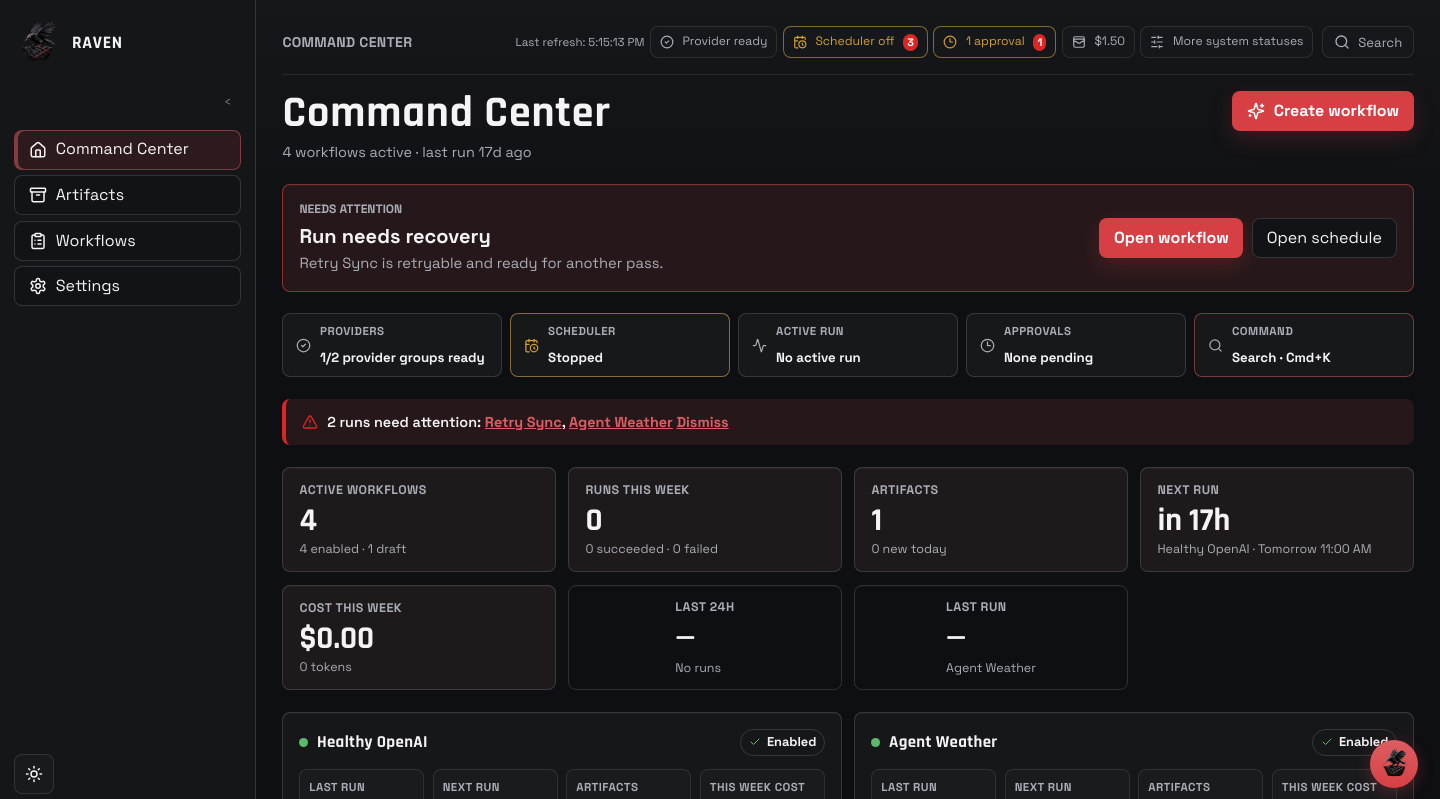
Raven app shell › opens provider status details before navigating to provider settings
The image size is (1440, 799).
Click the button with aria-label "provider status" at (714, 42), box [650,26,777,58]
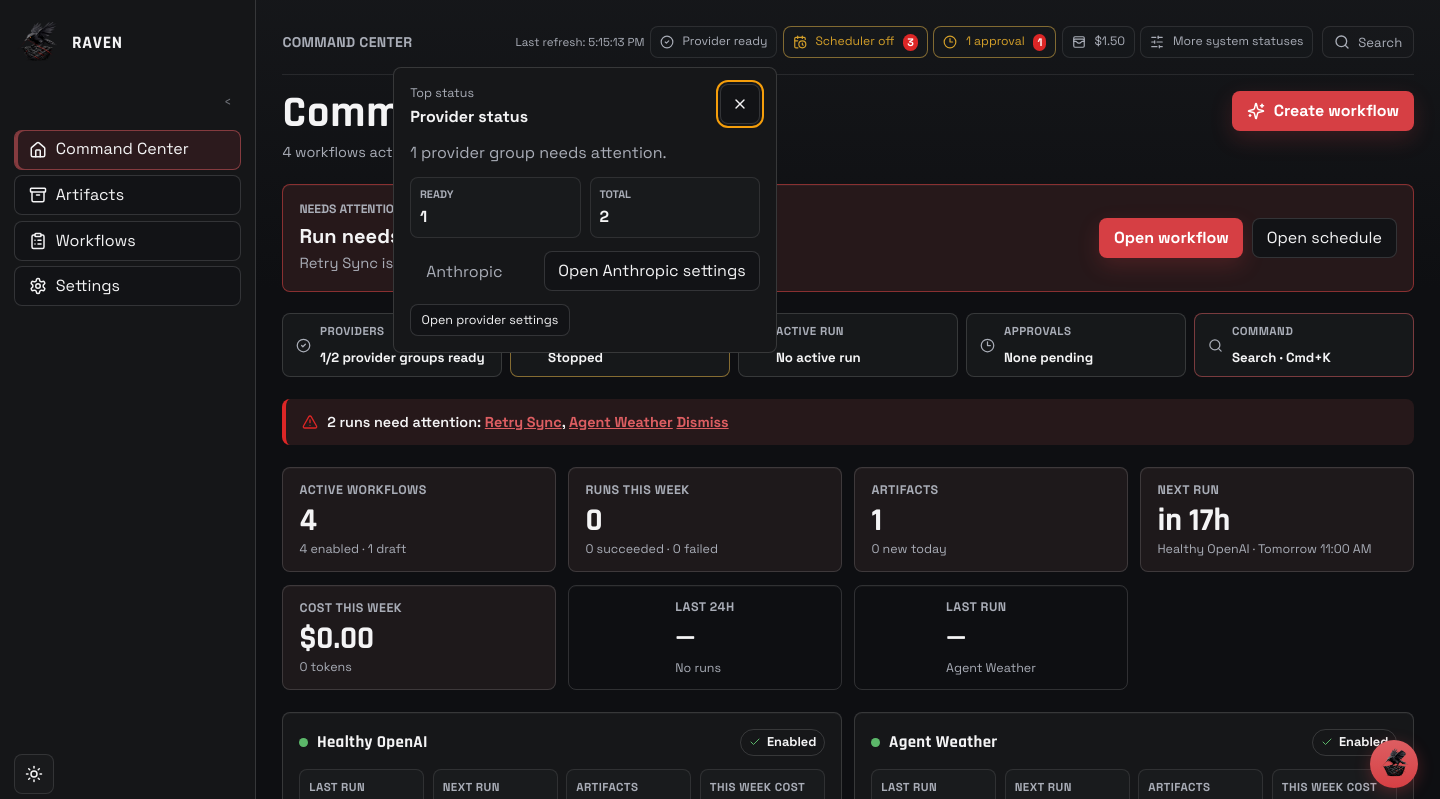
Expected: the dialog named "Provider status details" shows "needs attention", [410,142,667,164]
Click the button "Open provider settings" at (490, 320), box [410,304,570,336]
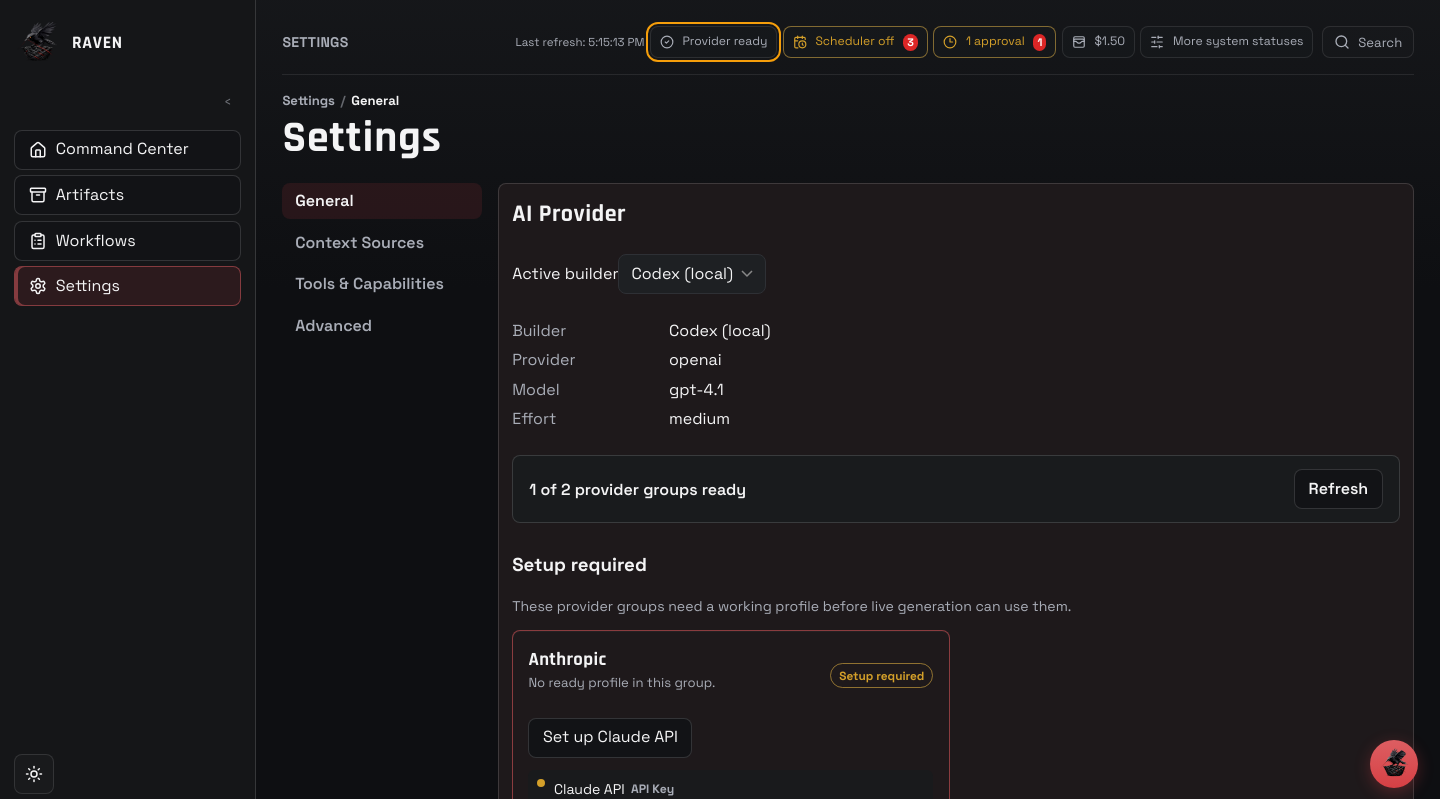
Expected: the navigation bar named "Settings breadcrumbs" shows "General", [351,92,399,109]
Expected: the button "General" is shown, [282,183,482,219]
